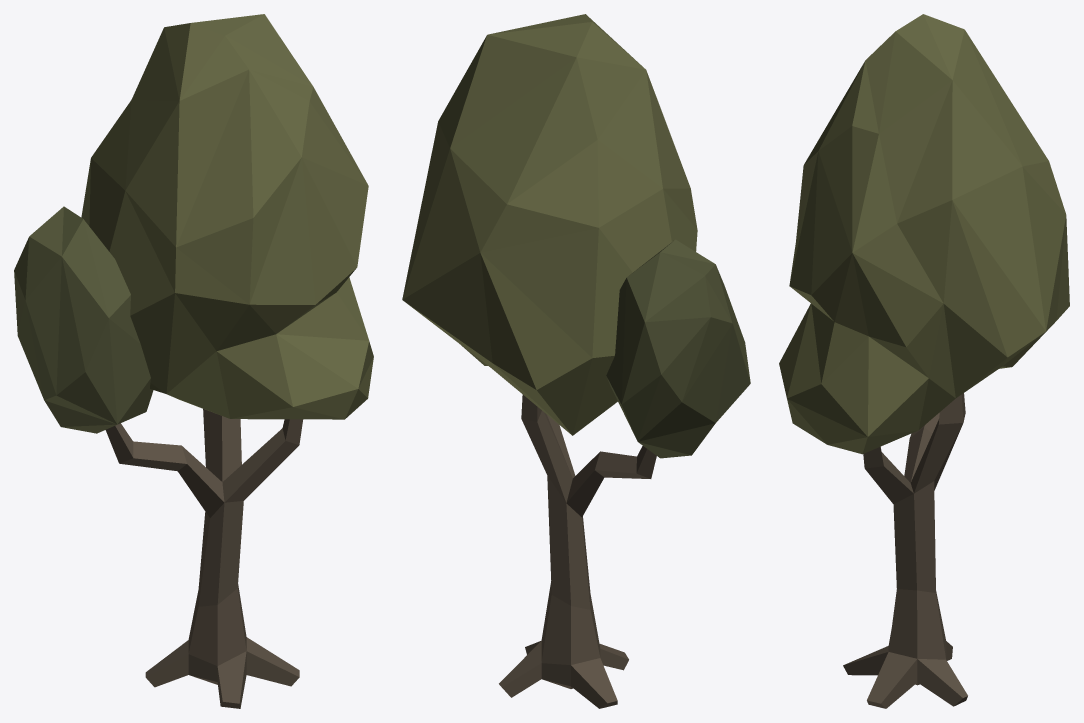
The model's file is env_tree_round.gltf.
The picture shows the model from 3 angles, left to right: view 1: azimuth 30°, elevation 25°; view 2: azimuth 150°, elevation 25°; view 3: azimuth 270°, elevation 25°; orthographic projection. The views are drawn at different scales.
Parts seen in each view (by area): view 1: env_tree_round; view 2: env_tree_round; view 3: env_tree_round.
Part boxes in pixels (bbox=[...]): env_tree_round: bbox=[14, 14, 373, 708]; env_tree_round: bbox=[402, 14, 750, 708]; env_tree_round: bbox=[779, 14, 1069, 708].
Size of the model in its own units: 2.89 by 5.98 by 2.39.
1 material, 1 textured.
